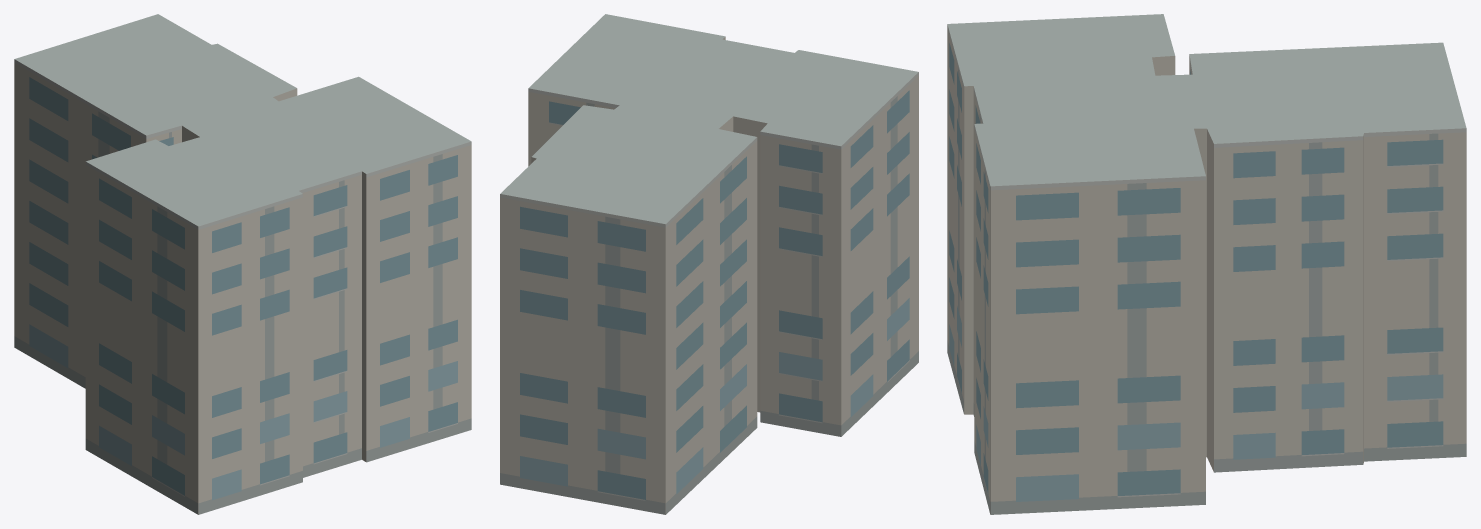
Rendered from survey-upis-32718414.glb.
3 views of the same model, side by side, from view 1: azimuth 30°, elevation 25°; view 2: azimuth 150°, elevation 25°; view 3: azimuth 270°, elevation 25° (orthographic). The views are drawn at different scales.
Visible parts, largest first — view 1: survey-upis-32718414.tmp; view 2: survey-upis-32718414.tmp; view 3: survey-upis-32718414.tmp.
Boxes of the visible parts, x1=… form: survey-upis-32718414.tmp: x1=14, y1=14, x2=471, y2=514; survey-upis-32718414.tmp: x1=500, y1=14, x2=918, y2=514; survey-upis-32718414.tmp: x1=947, y1=14, x2=1466, y2=514.
Bounding box in the file's own units: 22.73 × 20.2 × 28.94.
